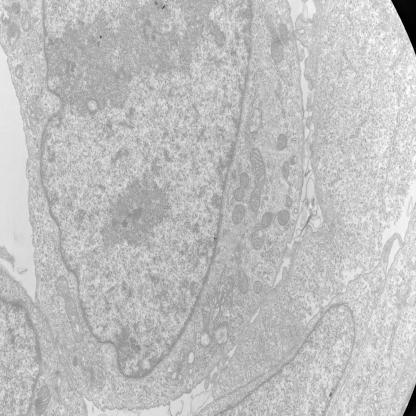mitochondria: (55, 276, 85, 345), (250, 148, 264, 214), (199, 302, 212, 349), (233, 174, 249, 202), (269, 41, 286, 65), (36, 385, 50, 414), (251, 228, 265, 251), (232, 204, 246, 224), (238, 271, 249, 295), (261, 211, 274, 229), (277, 133, 289, 152), (277, 209, 290, 226), (21, 11, 31, 33), (14, 63, 24, 79), (283, 160, 290, 180), (253, 280, 262, 295), (12, 0, 21, 14), (285, 194, 293, 208)
